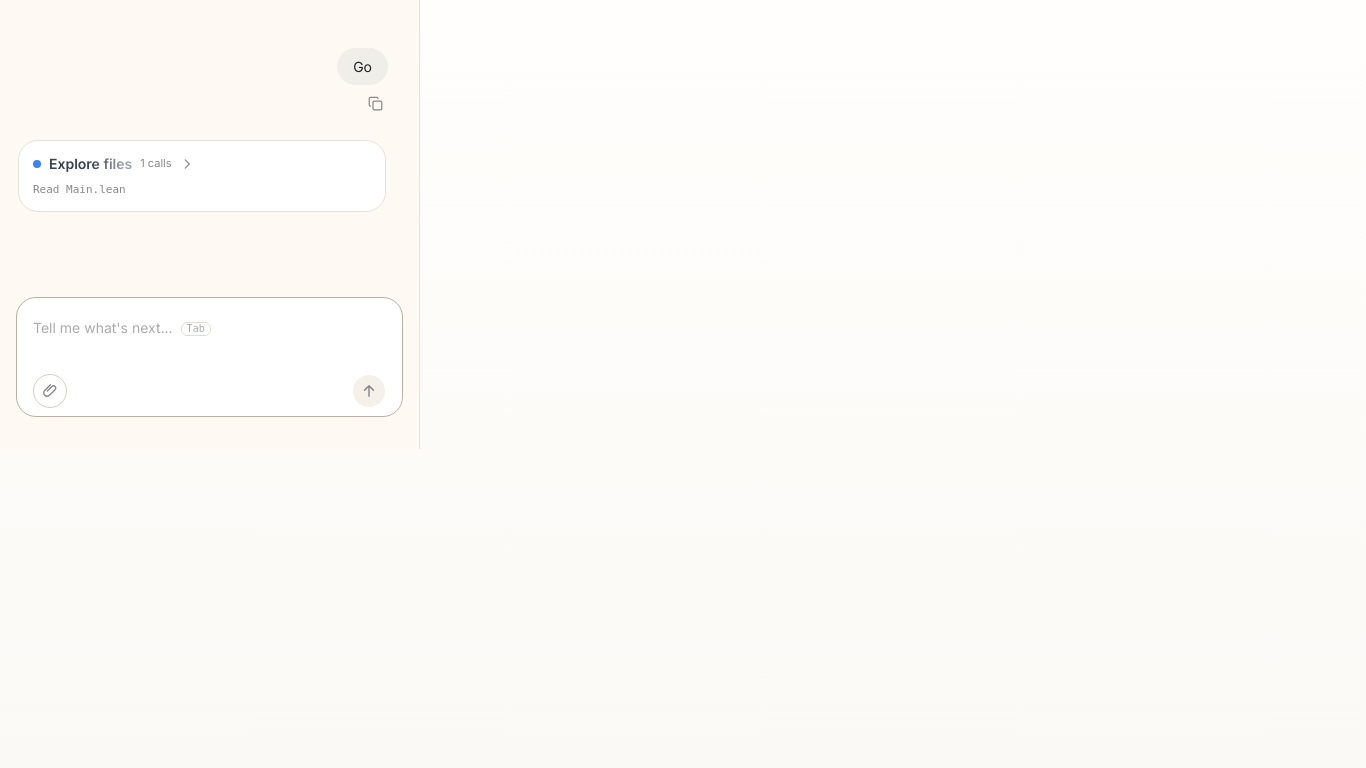
Test case: ChatPanel › dismisses the expanded timeline when its file reference opens
The width and height of the screenshot is (1366, 768).
Click the button "Explore files 1 calls Read Main.lean".
click(60, 164)  # box [18,140,386,212]
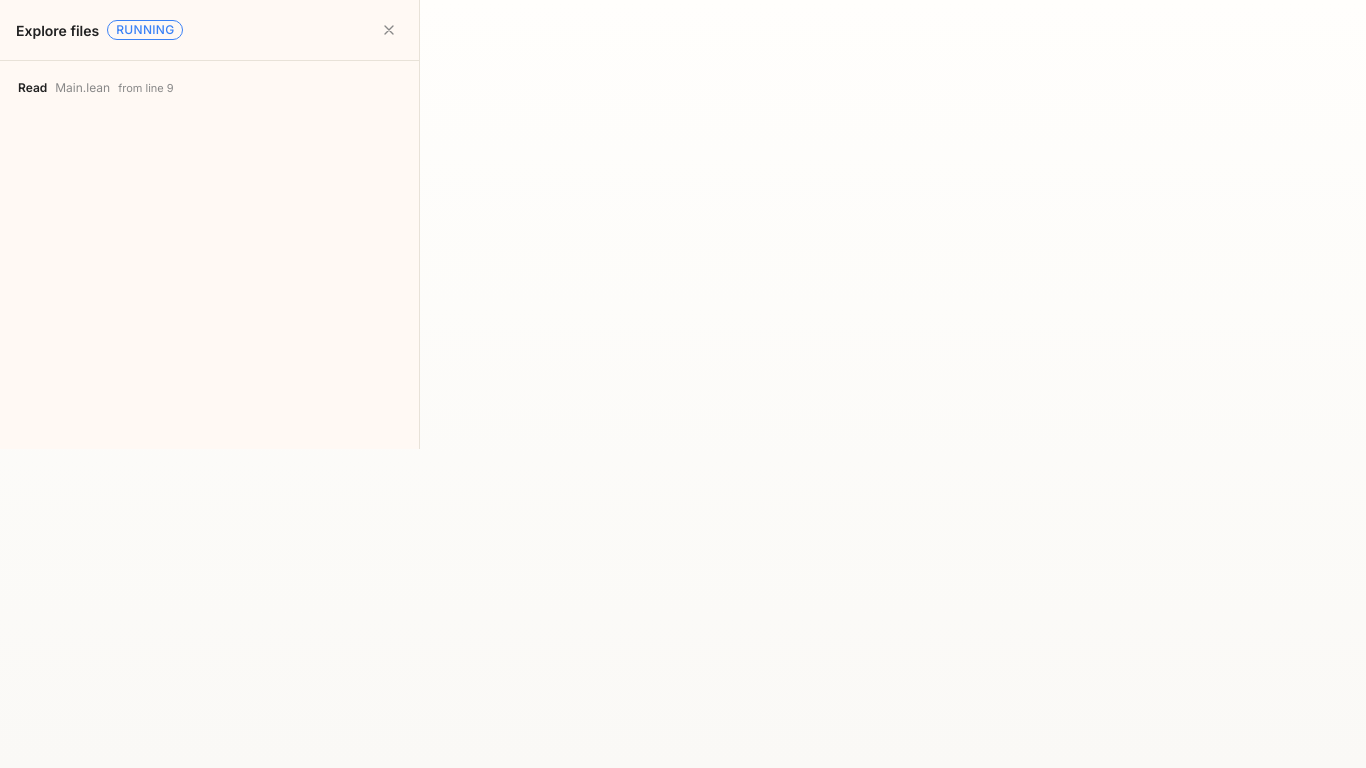
Expected: the dialog is shown, [0,0,419,448]
Click the button with aria-label "Open lean/Main.lean at line 9".
click(114, 88)  # box [55,78,174,98]
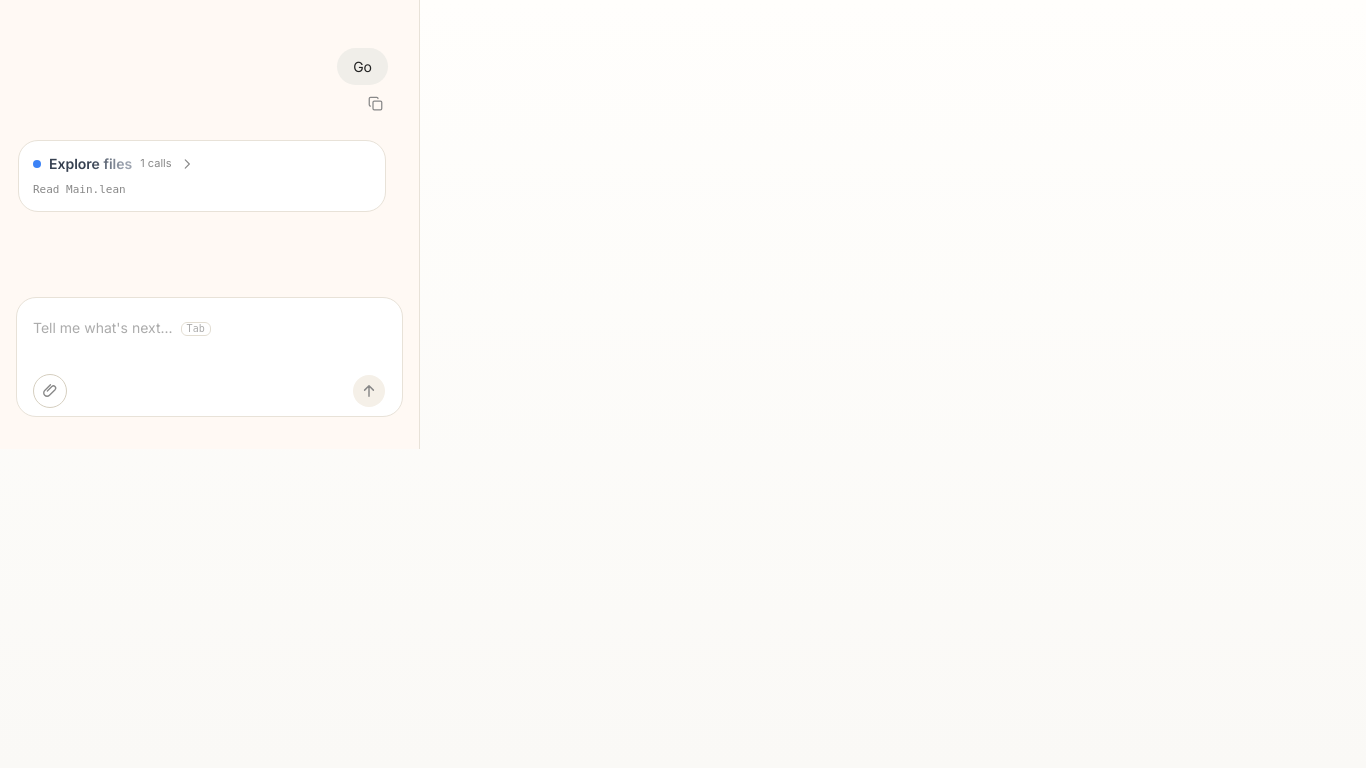
Expected: the dialog is gone
